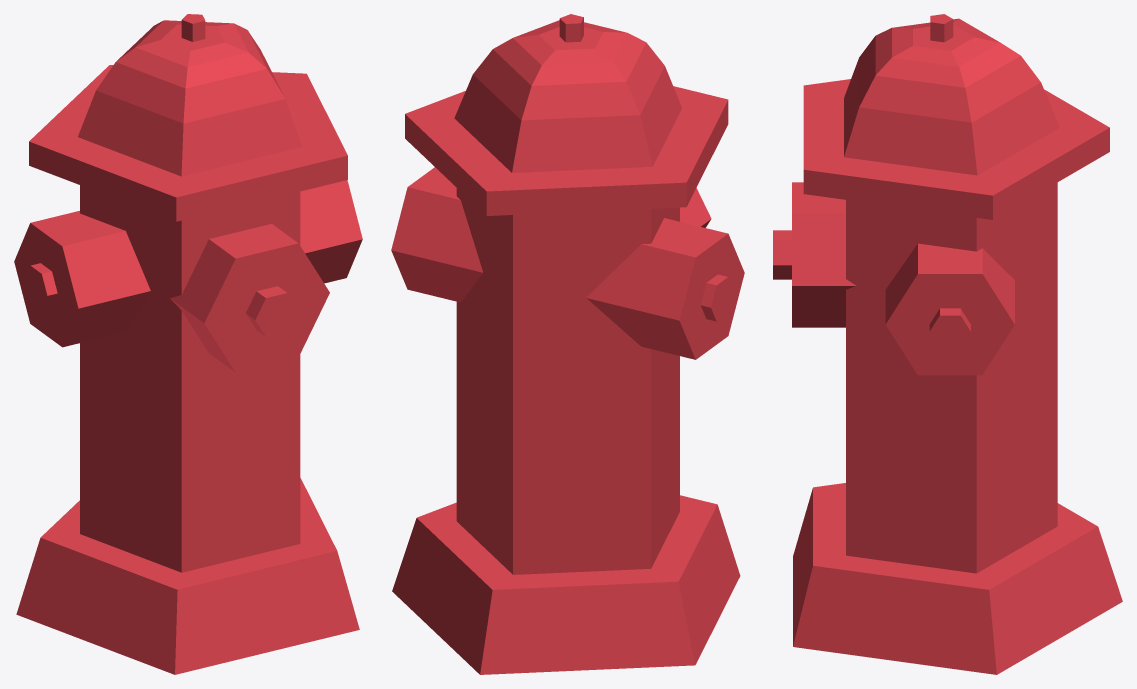
File: Hydrant.fbx
3 views of the same model, side by side, from view 1: azimuth 30°, elevation 25°; view 2: azimuth 150°, elevation 25°; view 3: azimuth 270°, elevation 25° (orthographic).
Visible parts, largest first — view 1: Circle, Cylinder, Cylinder.001; view 2: Circle, Cylinder, Cylinder.001; view 3: Circle, Cylinder, Cylinder.001.
Boxes of the visible parts, x1,y1,x2,y2 form: Circle: (16, 14, 359, 674); Cylinder: (14, 180, 362, 347); Cylinder.001: (170, 224, 329, 372); Circle: (392, 14, 740, 674); Cylinder: (391, 167, 744, 359); Cylinder.001: (680, 188, 711, 227); Circle: (793, 14, 1122, 674); Cylinder: (885, 243, 1014, 375); Cylinder.001: (773, 182, 856, 327).
Bounding box in the file's own units: 94.54 × 170 × 92.31.
